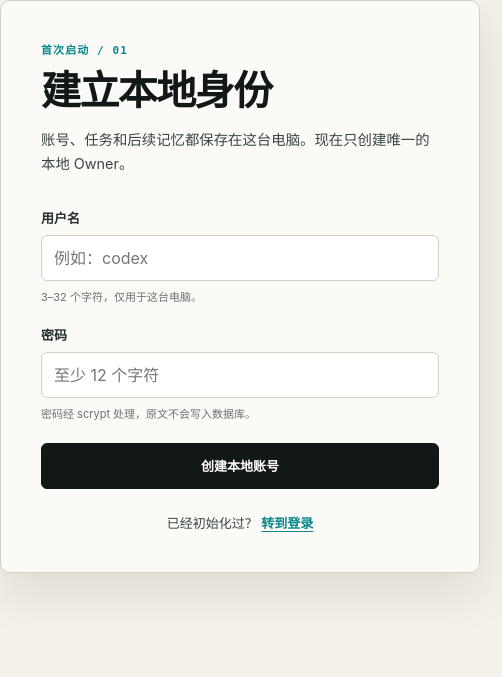
AuthForm › blocks invalid credentials before making a request
Type "ab" into the field labelled "用户名" at x=240, y=258, box [41,235,439,281]
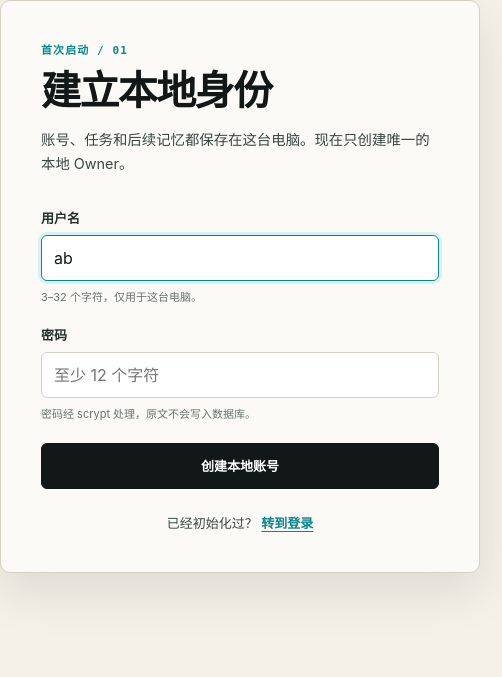
Type "short" into the password field labelled "密码" at x=240, y=375, box [41,352,439,398]
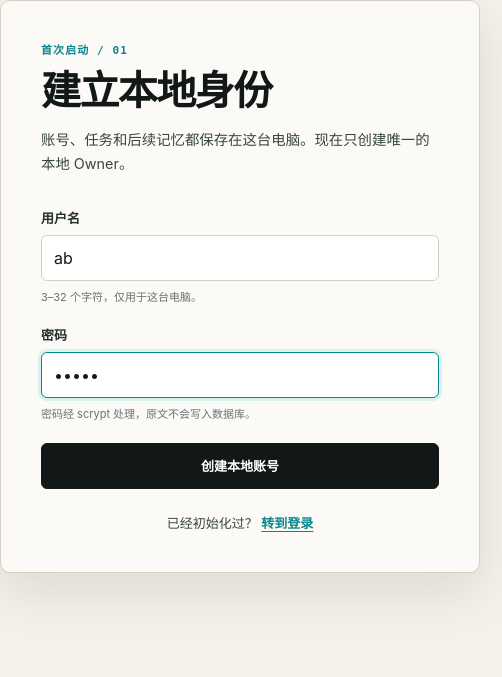
Click the button "创建本地账号" at x=240, y=466, box [41,443,439,489]
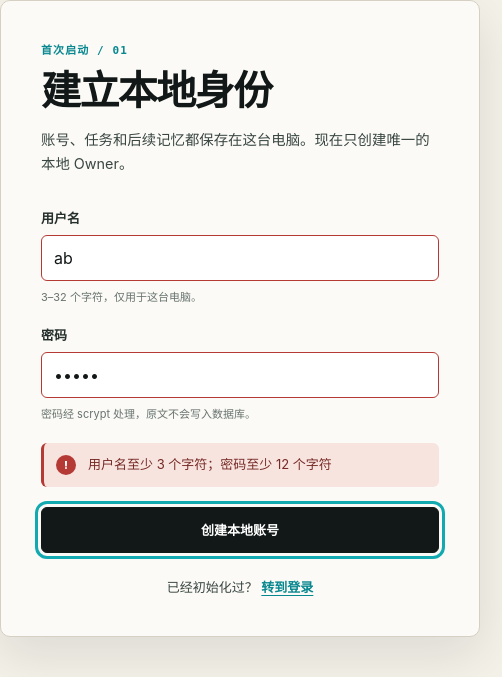
Expected: the message shows "用户名至少 3 个字符", [88,456,332,472]
